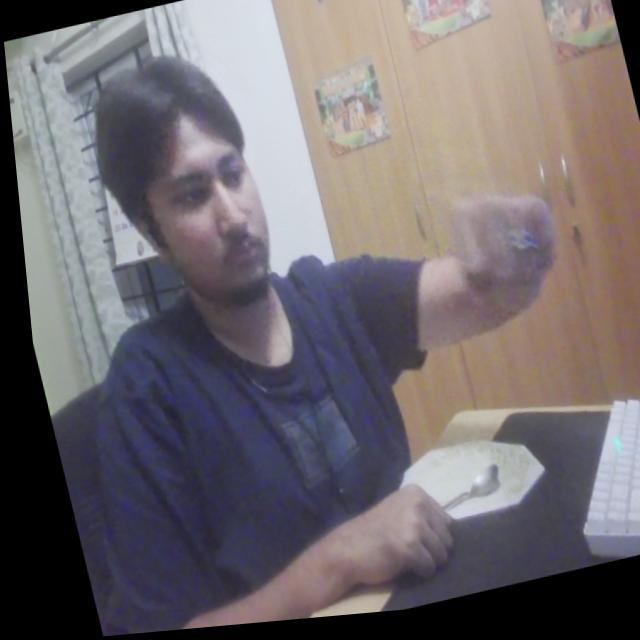yes: (426, 172, 575, 338)
